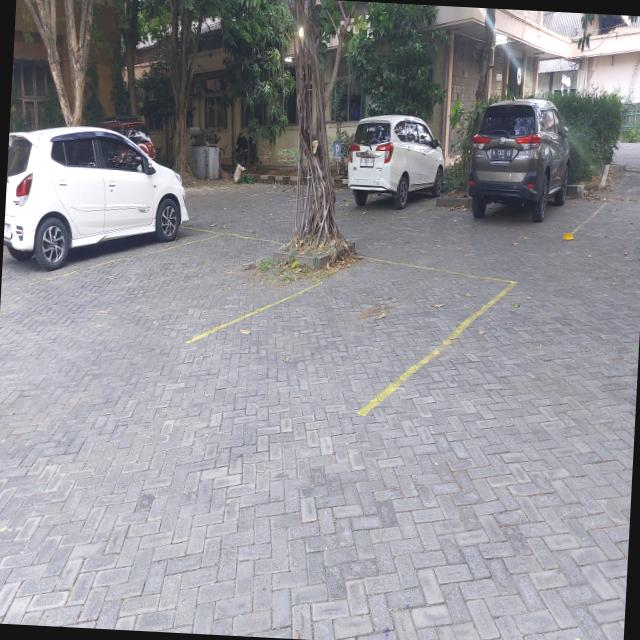car: (3, 126, 223, 285), (455, 99, 607, 234), (339, 114, 452, 213)
free: (189, 258, 514, 412), (55, 235, 377, 341)
